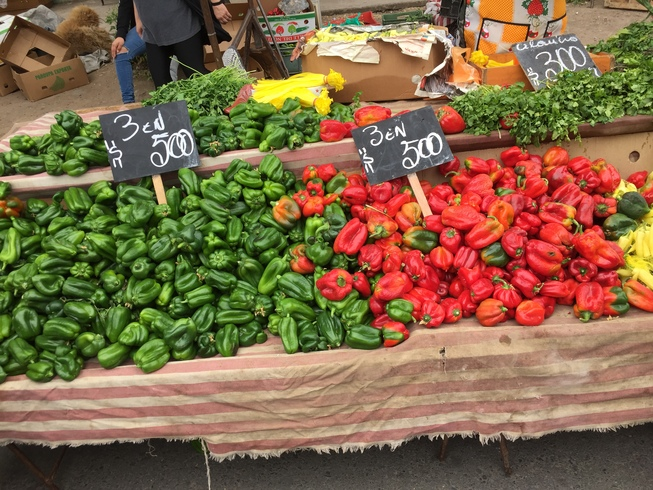precio: (91, 96, 207, 187), (346, 103, 459, 188), (508, 27, 606, 100)
